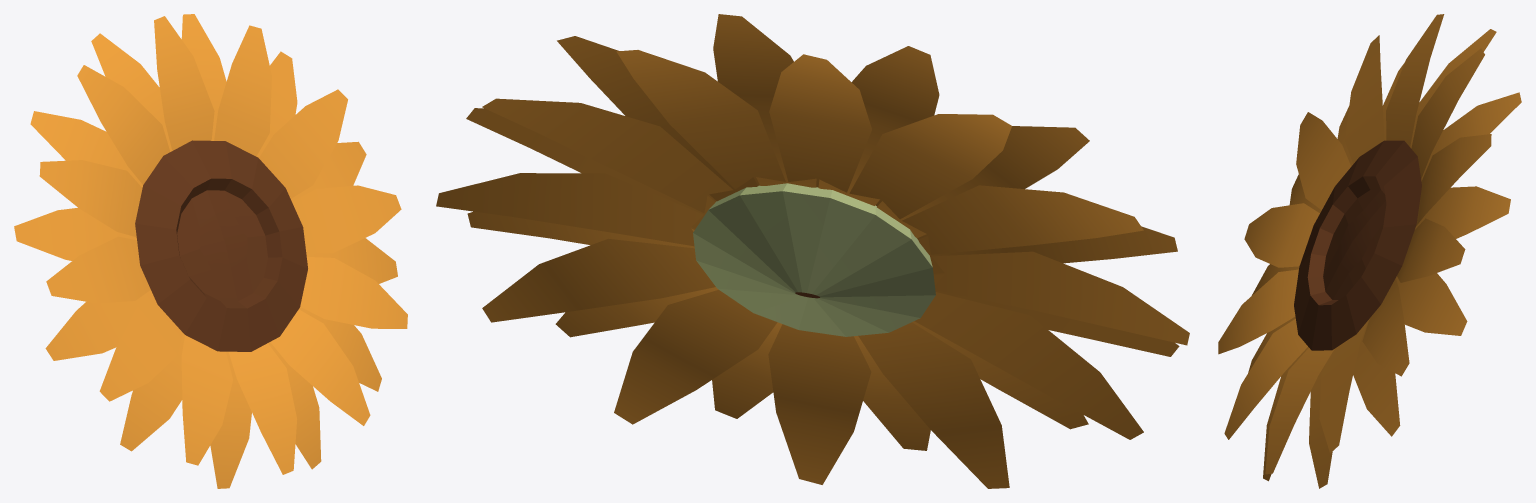
File: TheSunflovr.fbx
3 renders of one model, left to right at view 1: azimuth 30°, elevation 25°; view 2: azimuth 150°, elevation 25°; view 3: azimuth 270°, elevation 25°, orthographic. The views are drawn at different scales.
Parts seen in each view (by area): view 1: Sun; view 2: Sun; view 3: Sun.
Part boxes in pixels (left/top/right/bottom): Sun: left=14, top=14, right=407, bottom=488; Sun: left=436, top=14, right=1189, bottom=488; Sun: left=1218, top=14, right=1521, bottom=488.
Bounding box in the file's own units: 0.5165 × 0.47 × 0.3209.
